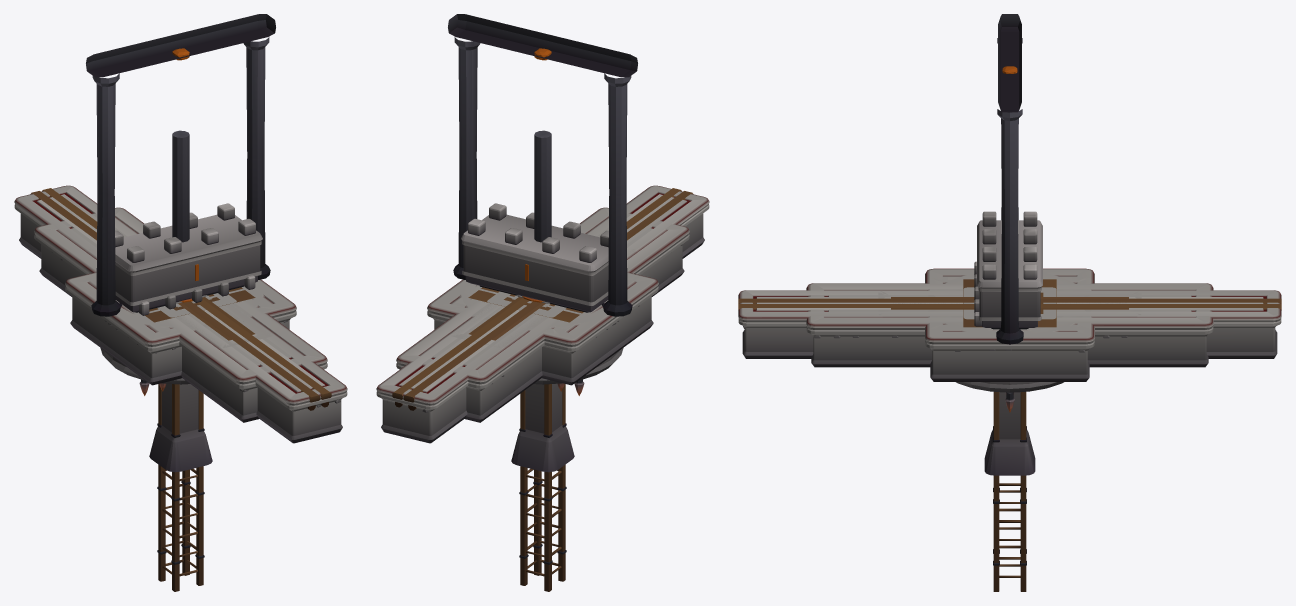
File: fortress-1-D60KlKP7.glb
The picture shows the model from 3 angles, left to right: view 1: azimuth 30°, elevation 25°; view 2: azimuth 150°, elevation 25°; view 3: azimuth 270°, elevation 25°; orthographic projection. The views are drawn at different scales.
Visible parts, largest first — view 1: pressFrame_8x6x1.5x7#0, spout_7x2#0, block_4x2x32_grate#0, block_6x2x24#0, block_10x2x10#0, truss_18#0, support_0_square#0, beam_1.5x1x32#0, press_6x6x2#0, block_10x2x5#0, disc_10x1.5#0, block_8x2x10#0 (+4 smaller); view 2: pressFrame_8x6x1.5x7#0, spout_7x2#0, block_4x2x32_grate#0, block_6x2x24#0, block_10x2x10#0, truss_18#0, support_0_square#0, beam_1.5x1x32#0, press_6x6x2#0, disc_10x1.5#0, block_10x2x5#0, block_8x2x10#0 (+4 smaller); view 3: block_6x2x24#0, block_4x2x32_grate#0, block_10x2x10#0, pressFrame_8x6x1.5x7#0, spout_7x2#0, beam_1.5x1x32#0, truss_18#0, support_0_square#0, disc_10x1.5#0, block_10x2x5#0, block_8x2x10#0, block_4x2x16#0.
Part boxes in pixels (x1,y1,x2,y2): pressFrame_8x6x1.5x7#0: [86, 14, 275, 316]; spout_7x2#0: [115, 203, 262, 315]; block_4x2x32_grate#0: [14, 185, 347, 443]; block_6x2x24#0: [34, 207, 327, 422]; block_10x2x10#0: [65, 272, 296, 385]; truss_18#0: [157, 384, 204, 591]; support_0_square#0: [149, 295, 212, 472]; beam_1.5x1x32#0: [30, 188, 331, 410]; press_6x6x2#0: [139, 130, 189, 395]; block_10x2x5#0: [88, 287, 265, 364]; disc_10x1.5#0: [100, 281, 265, 384]; block_8x2x10#0: [85, 272, 277, 381]; pressFrame_8x6x1.5x7#0: [448, 14, 637, 316]; spout_7x2#0: [461, 203, 608, 312]; block_4x2x32_grate#0: [376, 185, 709, 443]; block_6x2x24#0: [396, 207, 689, 422]; block_10x2x10#0: [427, 272, 658, 385]; truss_18#0: [519, 384, 566, 591]; support_0_square#0: [511, 295, 574, 472]; beam_1.5x1x32#0: [392, 188, 693, 410]; press_6x6x2#0: [534, 130, 584, 395]; disc_10x1.5#0: [458, 281, 623, 384]; block_10x2x5#0: [455, 287, 635, 364]; block_8x2x10#0: [446, 272, 638, 381]; block_6x2x24#0: [806, 283, 1213, 367]; block_4x2x32_grate#0: [738, 290, 1281, 358]; block_10x2x10#0: [925, 268, 1094, 381]; pressFrame_8x6x1.5x7#0: [996, 14, 1023, 344]; spout_7x2#0: [974, 211, 1042, 329]; beam_1.5x1x32#0: [738, 298, 1281, 310]; truss_18#0: [993, 392, 1026, 591]; support_0_square#0: [984, 392, 1035, 475]; disc_10x1.5#0: [937, 273, 1082, 392]; block_10x2x5#0: [972, 269, 1047, 381]; block_8x2x10#0: [925, 276, 1094, 369]; block_4x2x16#0: [878, 290, 1141, 317].
Bounding box in the file's own units: 11.9 × 34.4 × 32.
